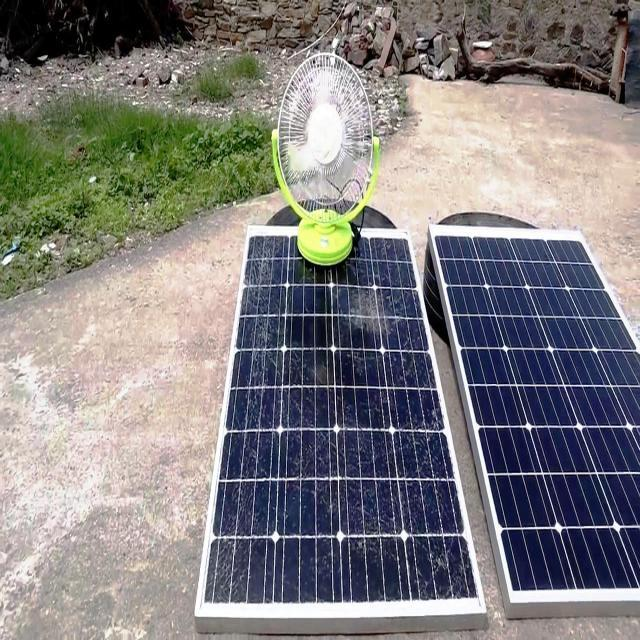faulty: (198, 227, 487, 620)
no faulty: (430, 222, 640, 600)
